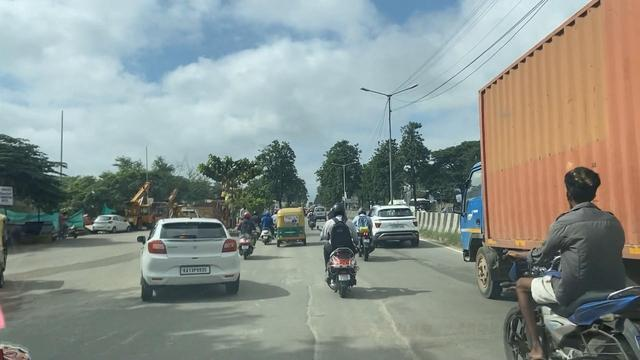LMV: (505, 245, 633, 346), (143, 213, 240, 289), (329, 203, 358, 289), (379, 203, 411, 248), (278, 207, 301, 243), (243, 207, 256, 262), (361, 210, 372, 254), (262, 207, 273, 247)
RoadDamages: (289, 314, 421, 360), (277, 271, 315, 304)
